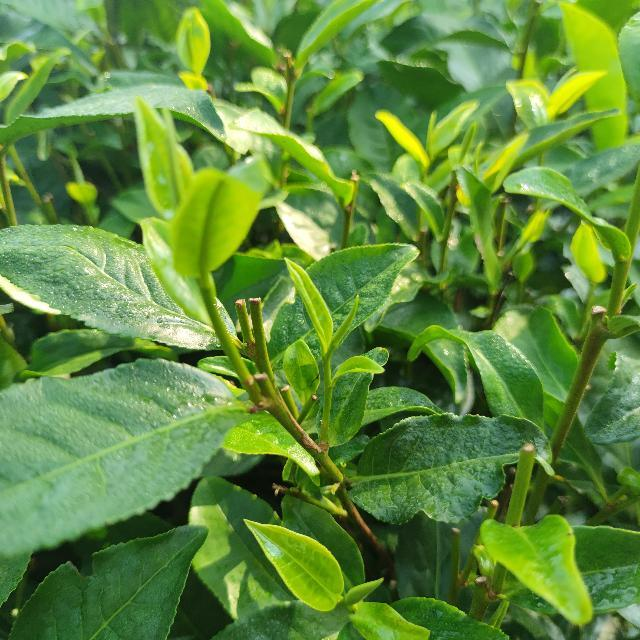Stem: (615, 262, 628, 279), (323, 355, 330, 366)
